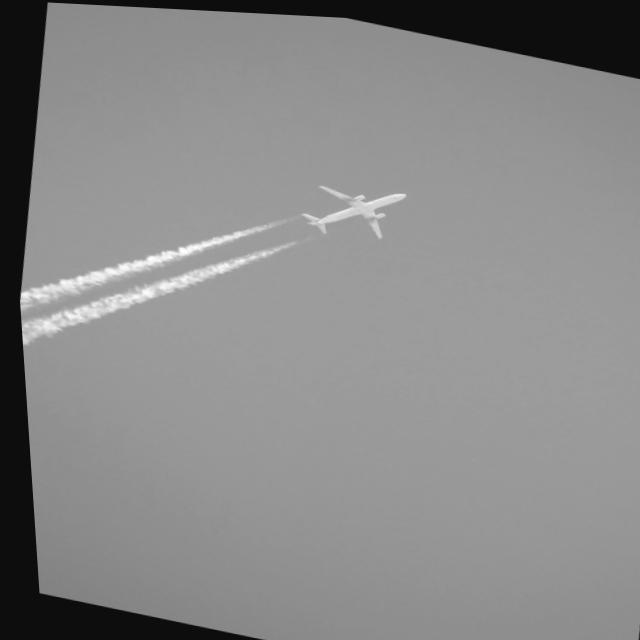aeroplane: (292, 170, 412, 248)
